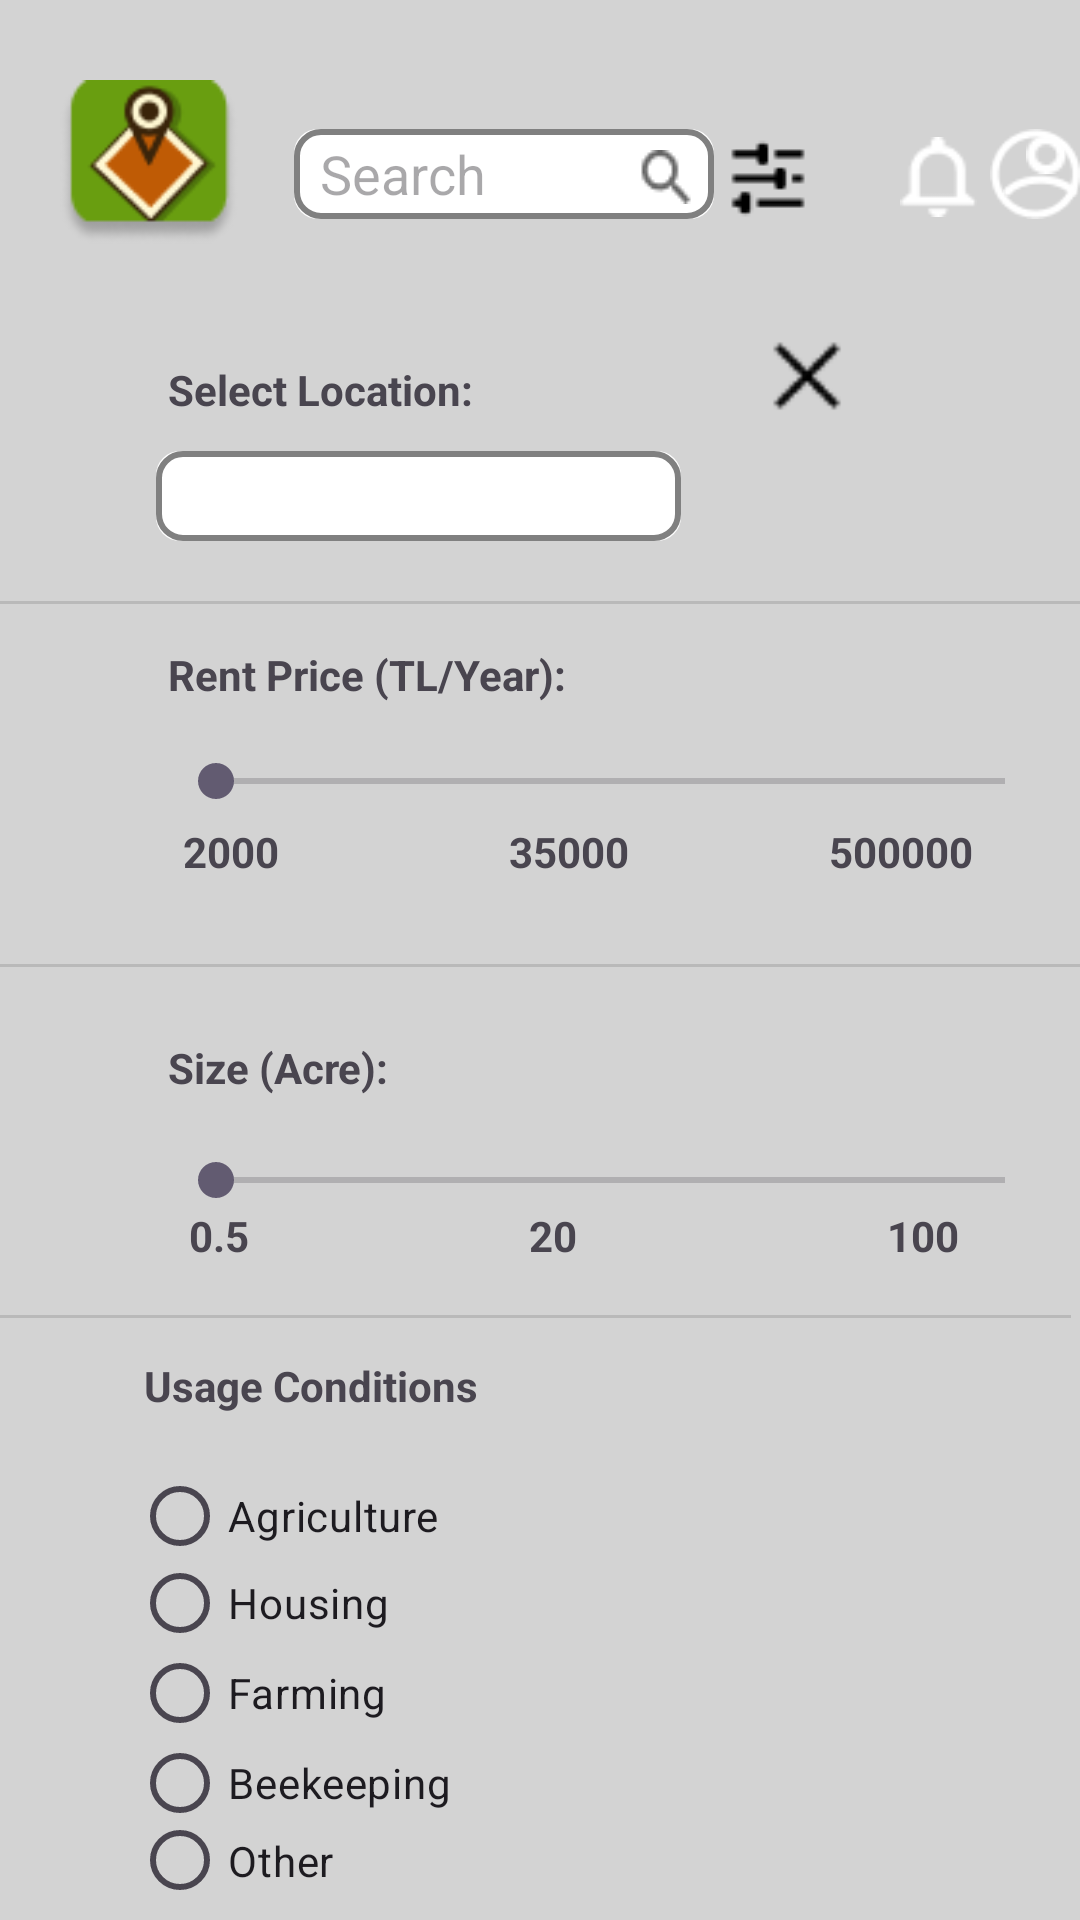

Where icons sit on this 1080w x 1920h app screen, as BBox(x1, y1, x2, y2):
close: BBox(773, 342, 841, 410)
tune: BBox(731, 142, 805, 215)
